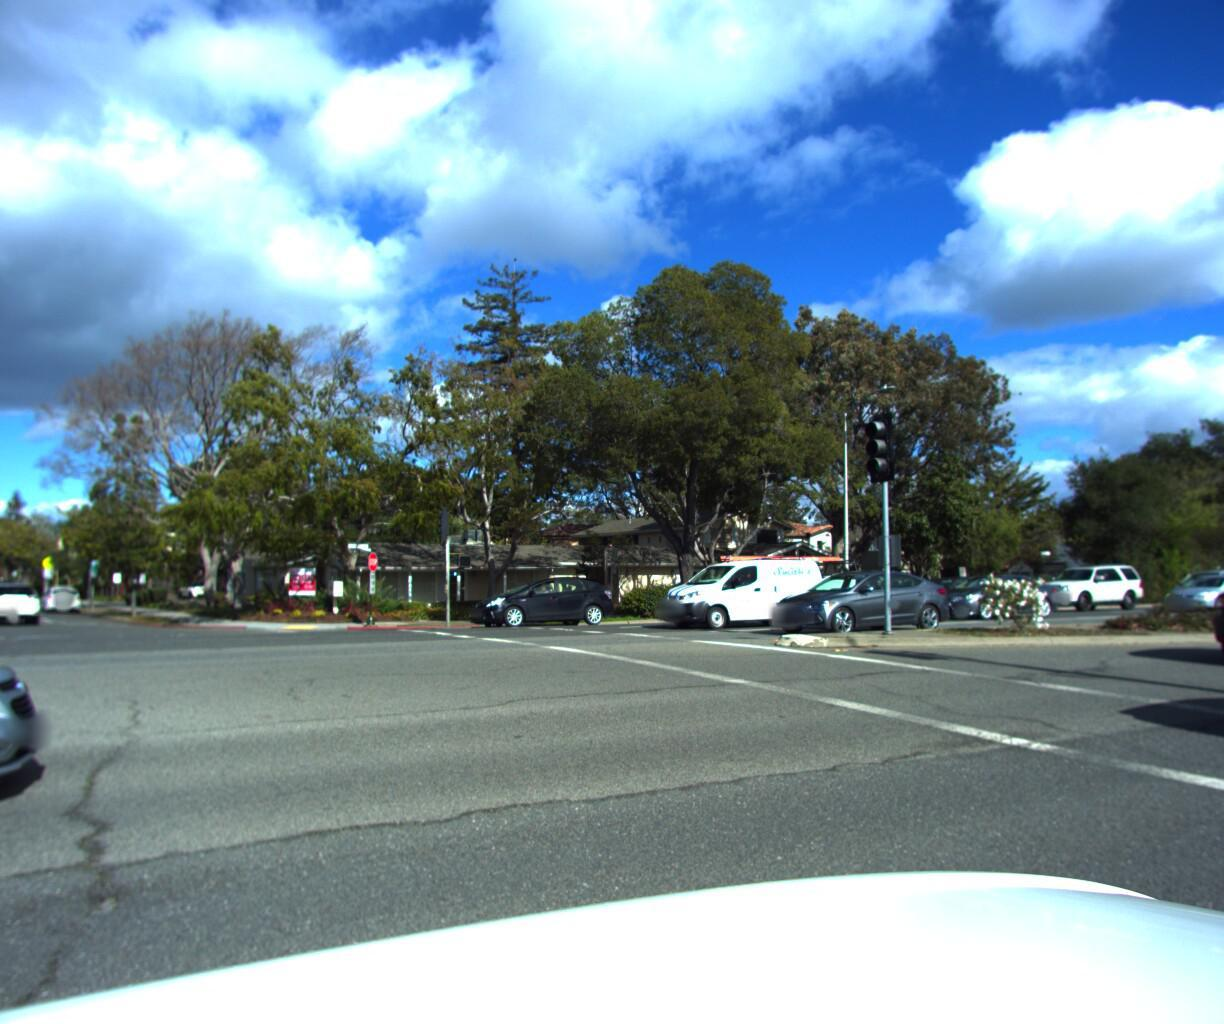car: (0, 573, 85, 1024), (677, 556, 871, 635), (756, 573, 958, 645), (645, 562, 830, 640), (461, 578, 620, 642), (918, 575, 1065, 628), (1020, 567, 1144, 617), (1200, 560, 1224, 682), (1154, 576, 1224, 613), (0, 579, 49, 627), (43, 589, 89, 622), (0, 584, 9, 615)
